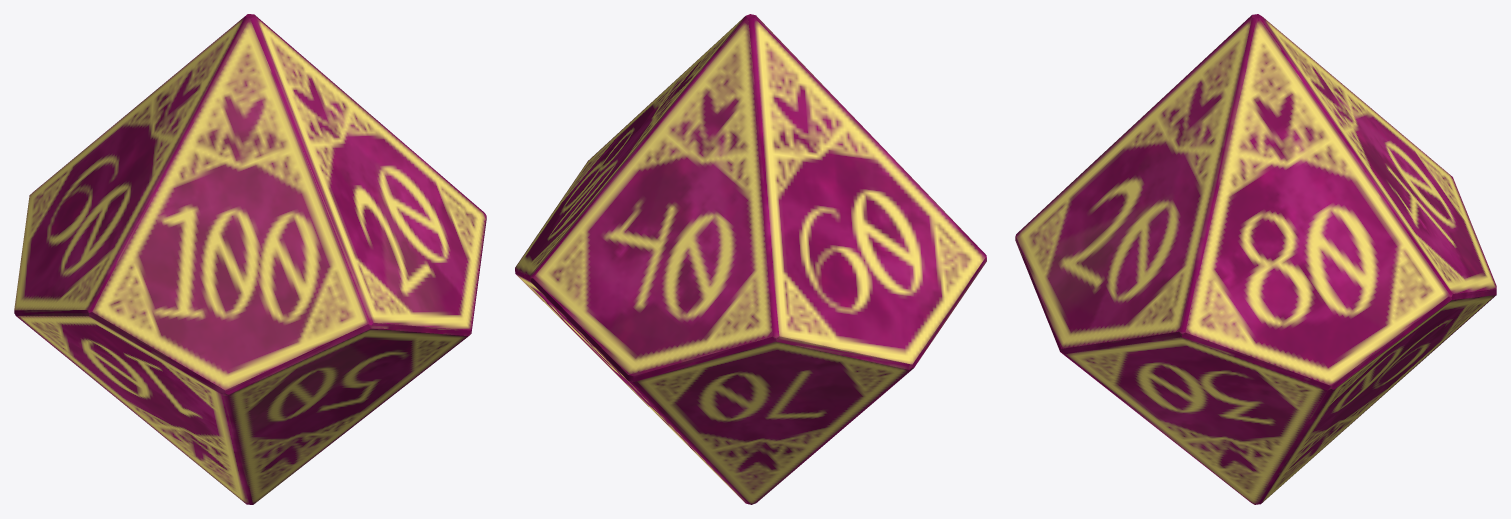
3 renders of one model, left to right at view 1: azimuth 30°, elevation 25°; view 2: azimuth 150°, elevation 25°; view 3: azimuth 270°, elevation 25°, orthographic.
Visible parts, largest first — view 1: polySurface8; view 2: polySurface8; view 3: polySurface8.
Part boxes in pixels (x1,y1,x2,y2): polySurface8: (14, 14, 486, 504); polySurface8: (515, 14, 986, 504); polySurface8: (1015, 14, 1496, 504).
Bounding box in the file's own units: 0.017 × 0.0199 × 0.0179.
1 material, 1 textured.
